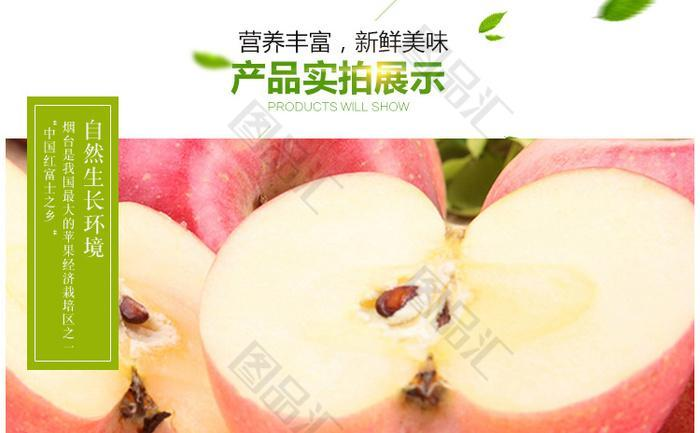apple: (210, 169, 697, 433), (6, 165, 218, 433), (118, 139, 449, 252)
